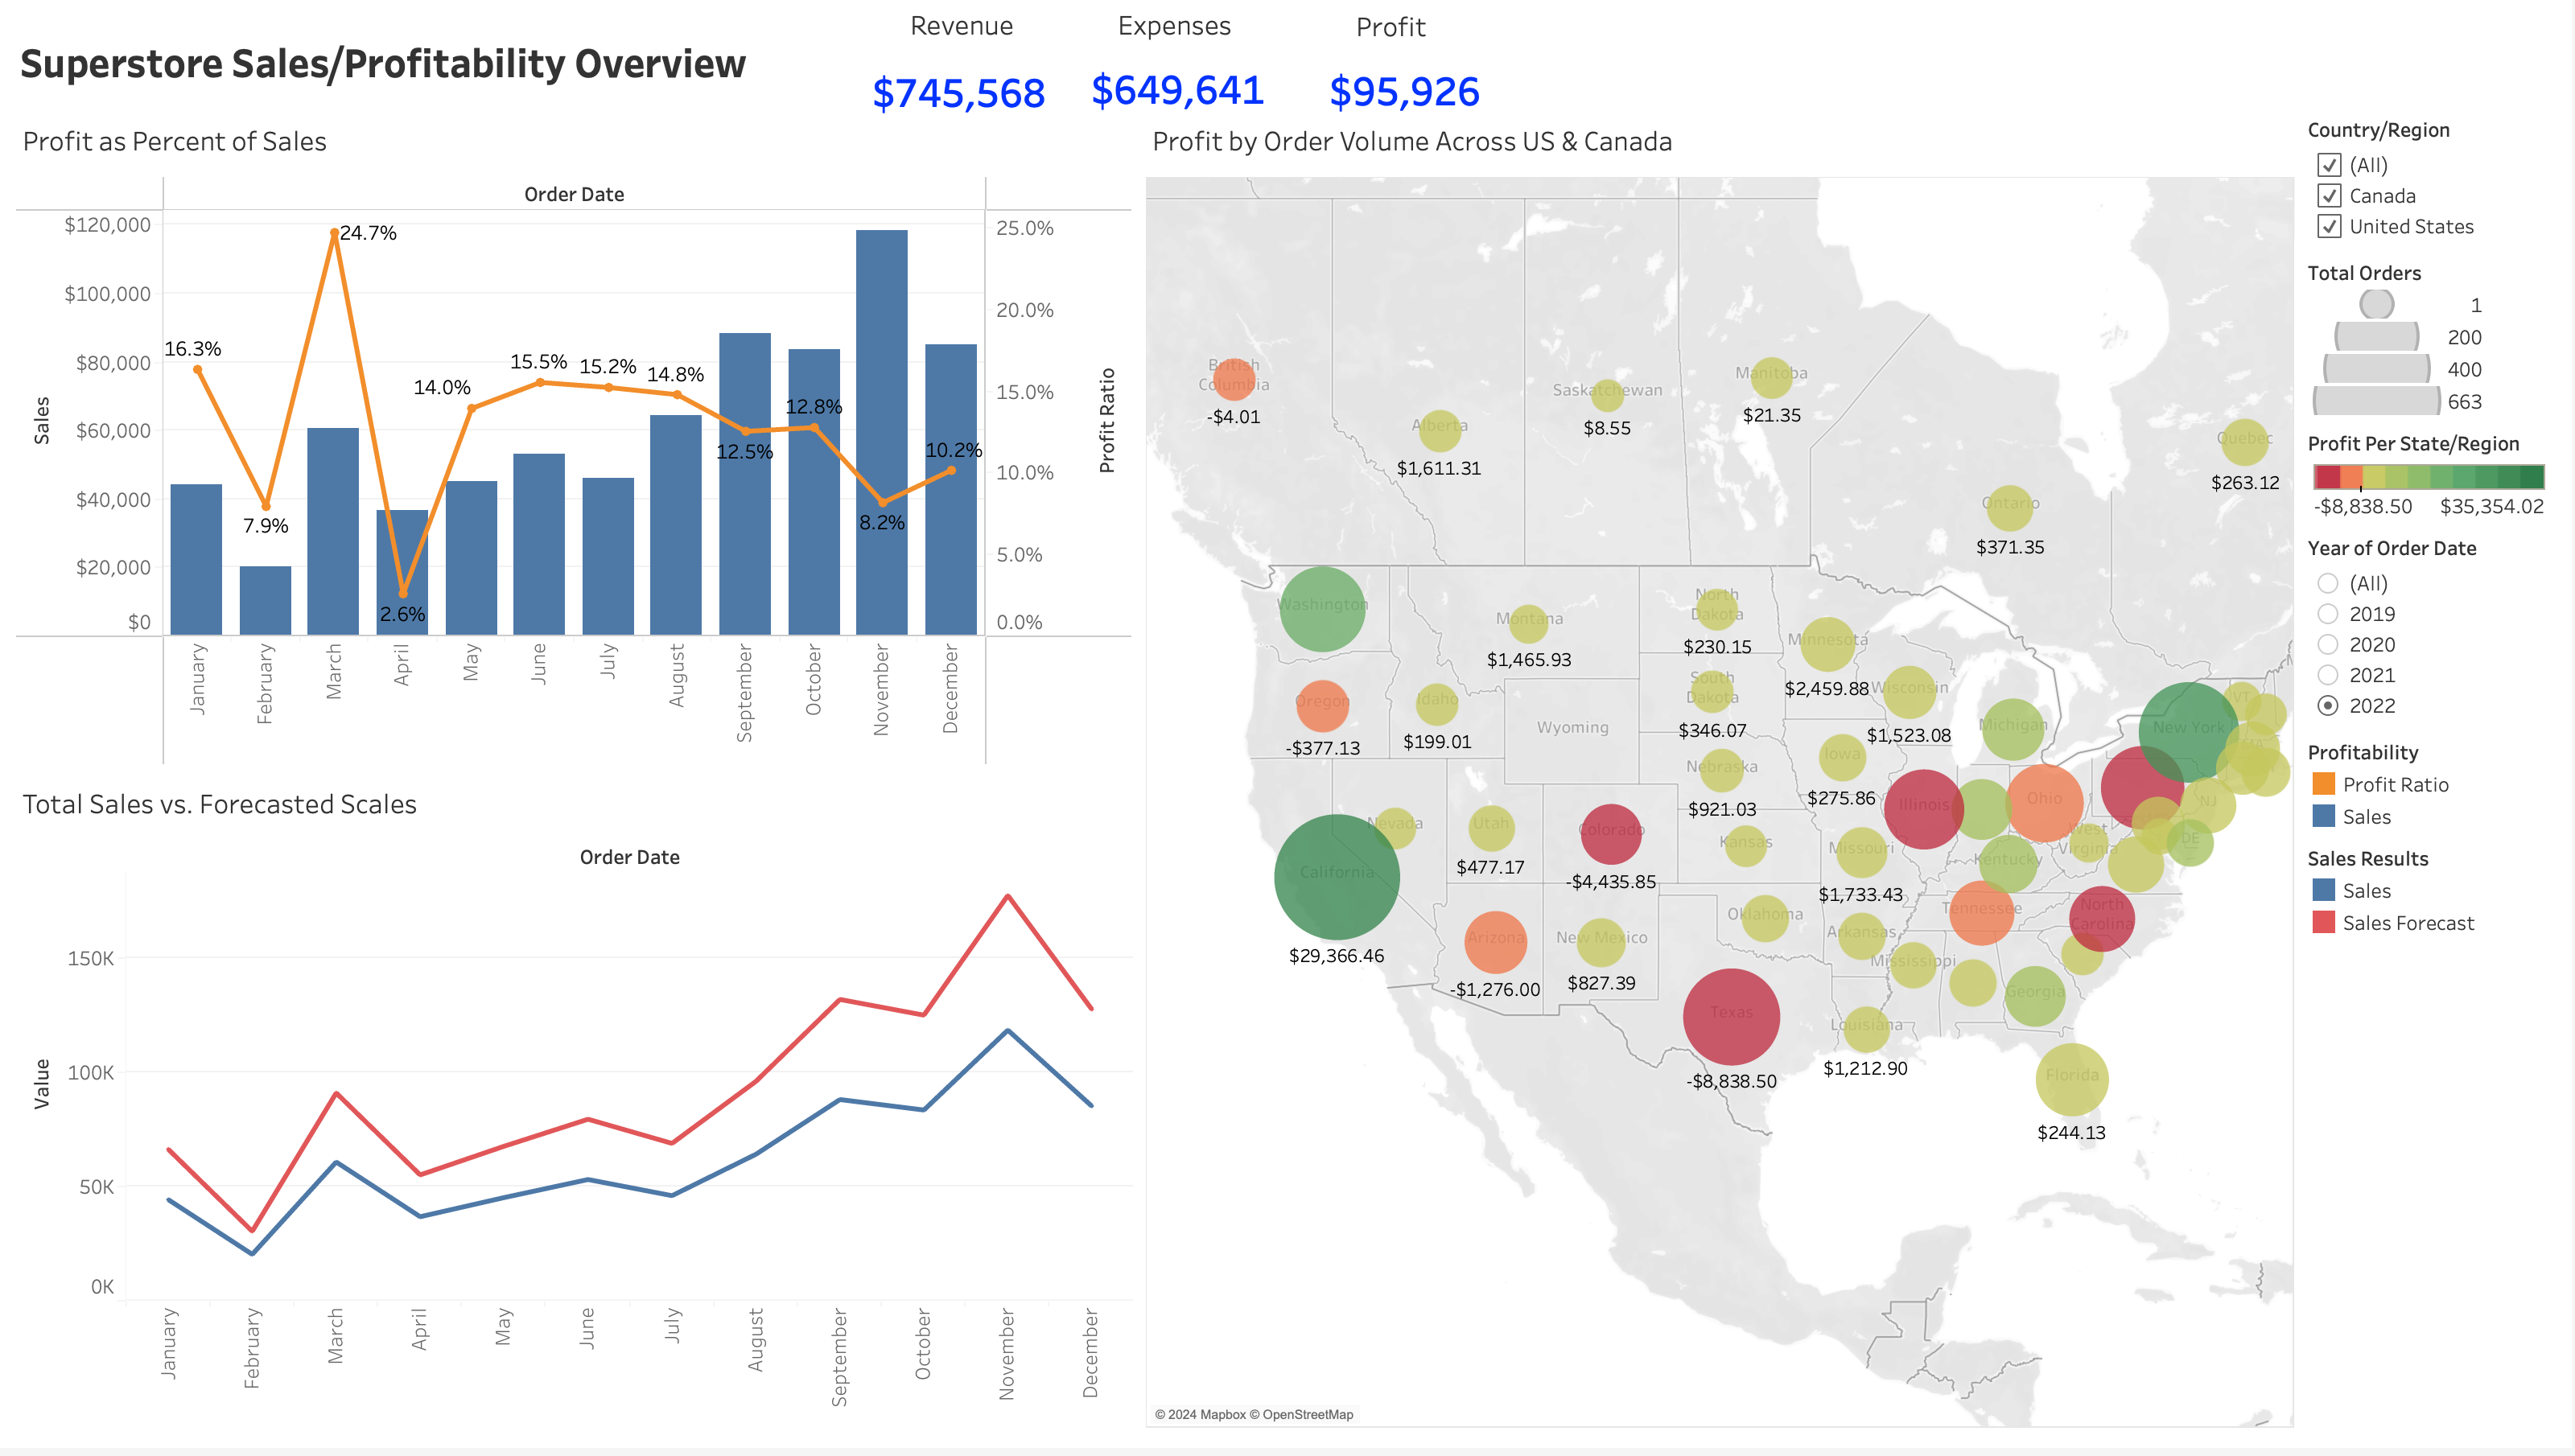

The dashboard page shown, as its layout file describes it:
{"tool":"tableau","page":{"name":"Dashboard 1","canvas":[1600,900],"ordinal":0},"visuals":[{"type":"worksheet","title":"Revenue","mark":"Automatic","box":[536,0,122,83]},{"type":"worksheet","title":"Expenses","mark":"Automatic","box":[672,0,126,85]},{"type":"worksheet","title":"Profit","mark":"Automatic","box":[801,1,146,92]},{"type":"blank","box":[533,5,425,73]},{"type":"title","box":[8,8,1584,60]},{"type":"worksheet","title":"Current Sales vs. Forecast","mark":"Line","cols":["Order Date"],"box":[8,68,702,412.1]},{"type":"worksheet","title":"Order and Profitability Map","mark":"Circle","box":[710,68,722,824]},{"type":"filter","title":"Order and Profitability Map","param":"[federated.10nnk8d1vgmw8q17yu76u06pnbcj].[none:Country/Region:nk]","box":[1432,68,160,89]},{"type":"legend","title":"Order and Profitability Map","param":"[federated.10nnk8d1vgmw8q17yu76u06pnbcj].[__tableau_internal_object_id__].[cnt:O","box":[1432,157,160,146]},{"type":"legend","title":"Order and Profitability Map","param":"[federated.10nnk8d1vgmw8q17yu76u06pnbcj].[sum:Profit:qk]","box":[1432,303,160,65]},{"type":"filter","title":"Proft vs. Sales","param":"[federated.10nnk8d1vgmw8q17yu76u06pnbcj].[yr:Order Date:ok]","box":[1432,368,160,127]},{"type":"worksheet","title":"Proft vs. Sales","mark":"Bar","rows":["Sales","Calculation_9921103144103743"],"cols":["Order Date"],"box":[8,480.1,702,411.9]},{"type":"legend","title":"Proft vs. Sales","param":"[federated.10nnk8d1vgmw8q17yu76u06pnbcj].[:Measure Names]","box":[1432,495,160,66]},{"type":"legend","title":"Current Sales vs. Forecast","param":"[federated.10nnk8d1vgmw8q17yu76u06pnbcj].[:Measure Names]","box":[1432,561,160,66]}]}

Visuals, with their boxes in screenshot pixels (x1, y1, x2, y2), scaled from the page's 1600x900 canvas onto the 2575x1456 screenshot:
"Revenue" worksheet: pyautogui.locateOnScreen(863, 0, 1059, 134)
"Expenses" worksheet: pyautogui.locateOnScreen(1081, 0, 1284, 138)
"Profit" worksheet: pyautogui.locateOnScreen(1289, 2, 1524, 150)
blank: pyautogui.locateOnScreen(858, 8, 1542, 126)
title: pyautogui.locateOnScreen(13, 13, 2562, 110)
"Current Sales vs. Forecast" worksheet (Line marks): pyautogui.locateOnScreen(13, 110, 1143, 777)
"Order and Profitability Map" worksheet (Circle marks): pyautogui.locateOnScreen(1143, 110, 2305, 1443)
"Order and Profitability Map" filter: pyautogui.locateOnScreen(2305, 110, 2562, 254)
"Order and Profitability Map" legend: pyautogui.locateOnScreen(2305, 254, 2562, 490)
"Order and Profitability Map" legend: pyautogui.locateOnScreen(2305, 490, 2562, 595)
"Proft vs. Sales" filter: pyautogui.locateOnScreen(2305, 595, 2562, 801)
"Proft vs. Sales" worksheet (Bar marks): pyautogui.locateOnScreen(13, 777, 1143, 1443)
"Proft vs. Sales" legend: pyautogui.locateOnScreen(2305, 801, 2562, 907)
"Current Sales vs. Forecast" legend: pyautogui.locateOnScreen(2305, 907, 2562, 1014)
